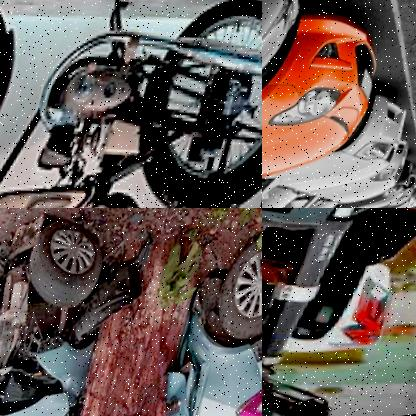bike: (262, 208, 416, 416)
car: (262, 0, 401, 208), (0, 208, 136, 416), (140, 241, 262, 416), (262, 0, 353, 191)
